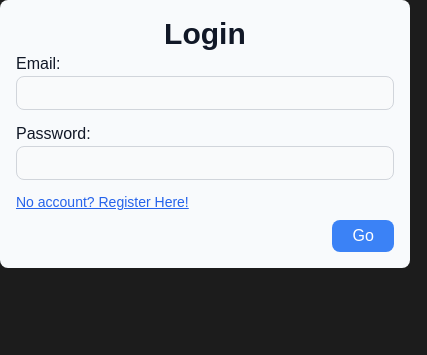
Components renders correctly › Renders correctly when changing mode
The image size is (427, 355).
Check: the heading "Login" is shown, box [164, 16, 246, 52]
Check: the text "Email:" is shown, box [16, 55, 60, 72]
// From login to register
Click the link with aria-label "change-mode" at (102, 202), box [16, 194, 189, 210]
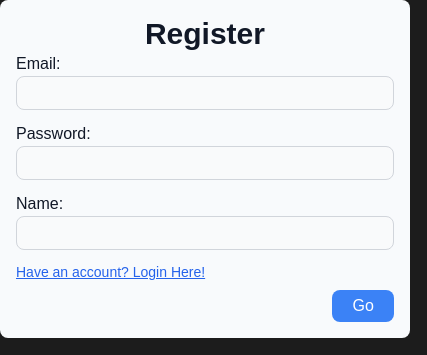
Check: the heading "Register" is shown, box [145, 16, 265, 52]
Check: the text "Name:" is shown, box [16, 195, 63, 212]
Check: the field named "username-input" is shown, box [16, 216, 394, 250]
// From register to login
Click the link with aria-label "change-mode" at (111, 272), box [16, 264, 205, 280]
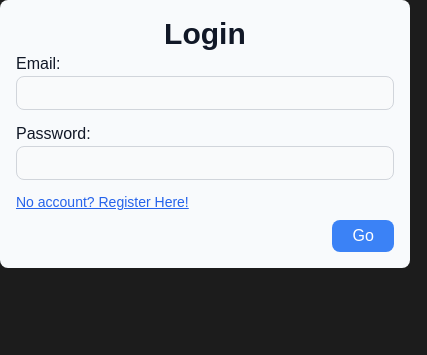
Check: the text "Email:" is shown, box [16, 55, 60, 72]
Check: the heading "Login" is shown, box [164, 16, 246, 52]
